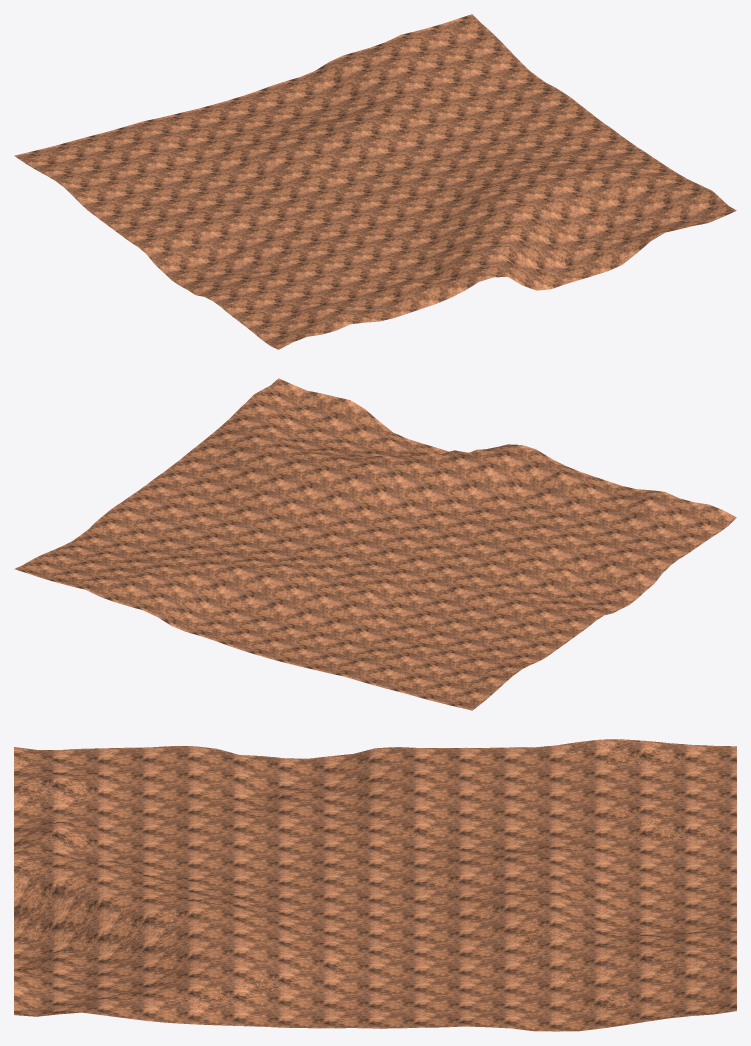
File: terrain_05_19.dae
3 views of the same model, one above another, from view 1: azimuth 30°, elevation 25°; view 2: azimuth 150°, elevation 25°; view 3: azimuth 270°, elevation 25° (orthographic). The views are drawn at different scales.
Visible parts, largest first — view 1: terrain_05_19-node; view 2: terrain_05_19-node; view 3: terrain_05_19-node.
Part boxes in pixels (box(x1,y1,x2,y2)): terrain_05_19-node: box(14, 14, 736, 349); terrain_05_19-node: box(14, 378, 736, 710); terrain_05_19-node: box(14, 739, 736, 1031).
Bounding box in the file's own units: 128 × 128 × 10.4.
1 material, 1 textured.
